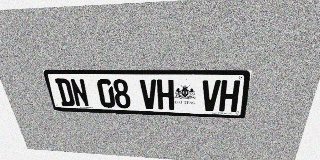0: (96, 79, 116, 108)
8: (112, 79, 131, 108)
D: (55, 78, 76, 106)
H: (219, 80, 240, 112), (157, 79, 174, 110)
N: (69, 79, 90, 107)
V: (201, 80, 221, 111), (140, 79, 158, 109)
